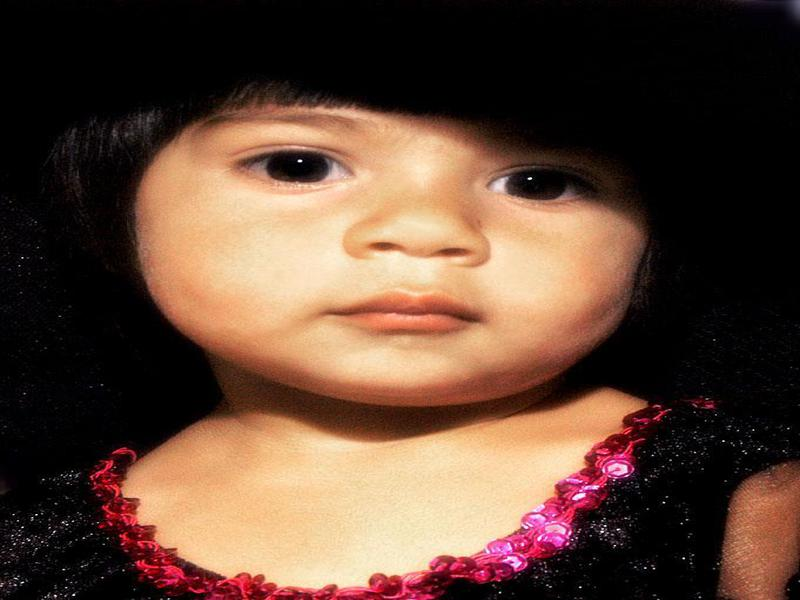person: (40, 67, 797, 600)
